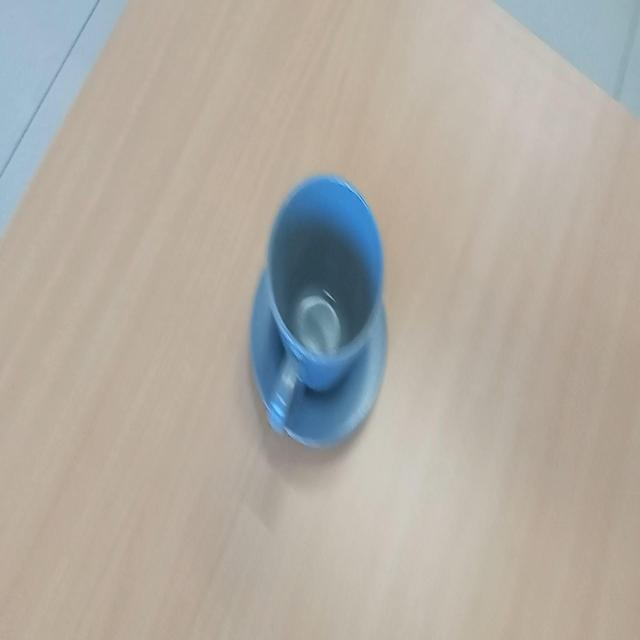cup: (264, 170, 386, 442)
